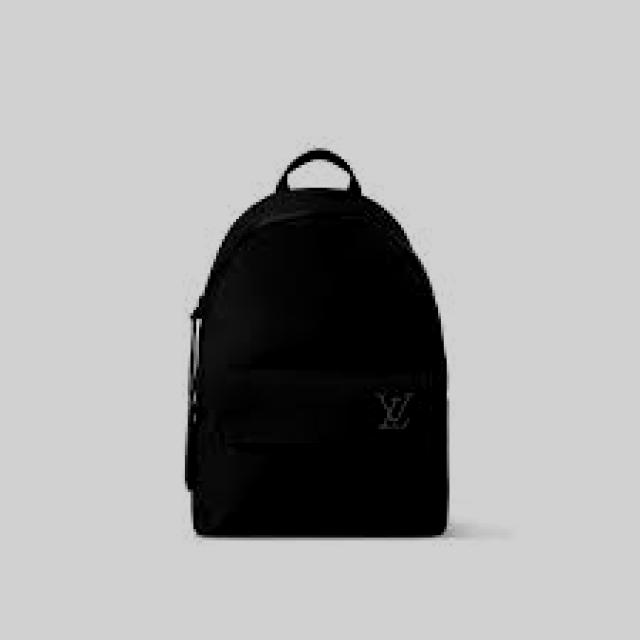backpack: (183, 149, 451, 539)
